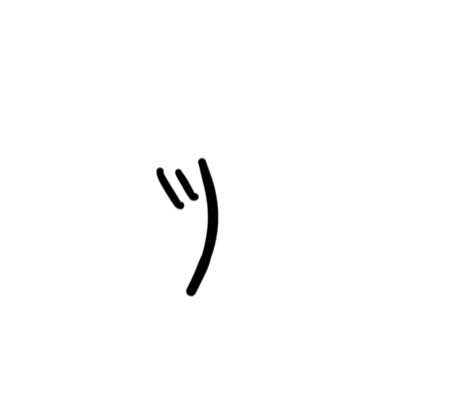tsu: (135, 143, 224, 305)
